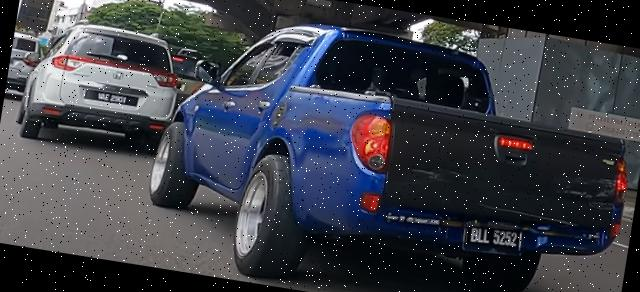License_Plate: (460, 220, 526, 261), (84, 91, 140, 109)
car: (137, 1, 640, 292), (13, 14, 188, 162)
